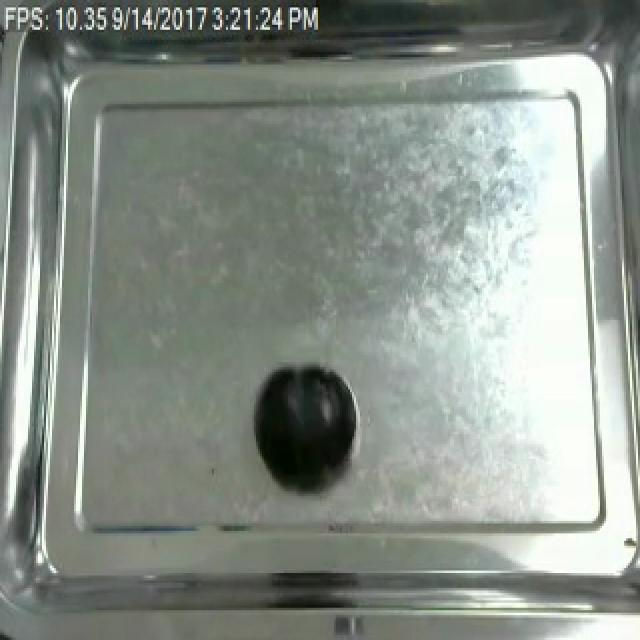Fruit: (250, 362, 354, 481)
